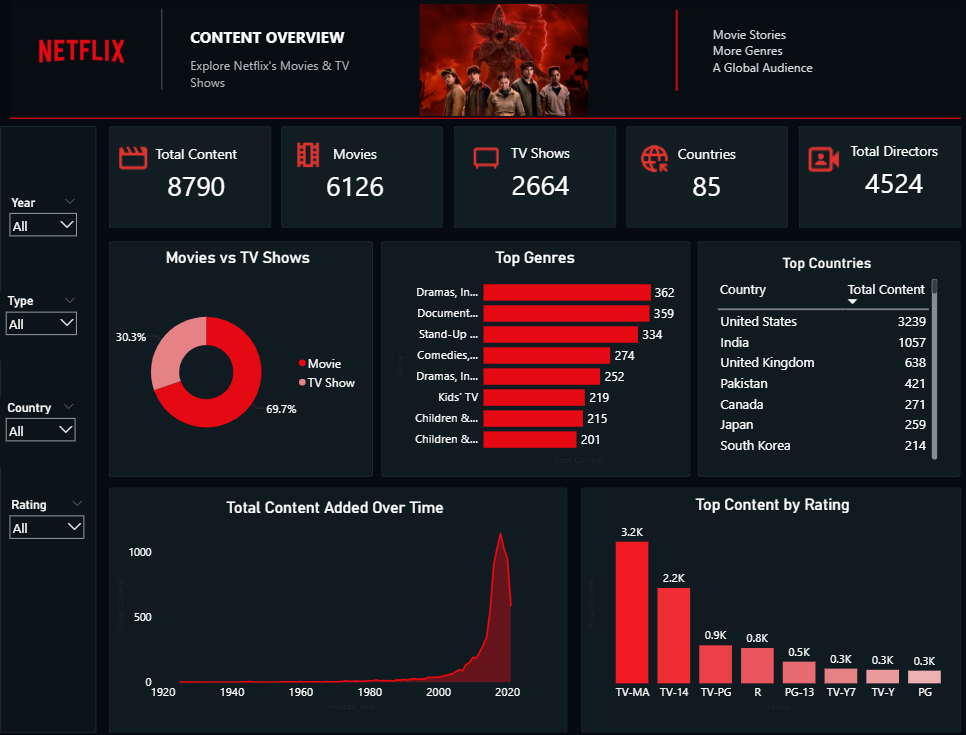

The dashboard page shown, as its layout file describes it:
{"tool":"powerbi","page":{"name":"Task 3","canvas":[2950,1450],"ordinal":1},"visuals":[{"type":"shape","box":[18.1,10.1,1656.8,205.1],"z":0},{"type":"shape","box":[0,227.7,167.6,1220.7],"z":1000},{"type":"shape","box":[189.8,234,452.2,170.8],"z":2000},{"type":"shape","box":[189.8,430.1,2163.2,594.6],"z":3000},{"type":"shape","box":[189.8,1046.8,2710.3,376.3],"z":4000},{"type":"shape","box":[2381.4,430.1,518.7,594.6],"z":5000},{"type":"shape","box":[746.4,234,483.9,170.8],"z":6000},{"type":"shape","box":[1334.6,237.2,490.2,167.6],"z":7000},{"type":"shape","box":[1929.1,234,445.9,170.8],"z":8000},{"type":"shape","box":[2479.4,237.2,408,167.6],"z":9000},{"type":"shape","box":[19,164.5,2868.4,101.2],"z":10000},{"type":"image","box":[0,0,328.9,215.1],"z":11000},{"type":"textbox","box":[357.7,31.7,1158.7,164.6],"z":12000},{"type":"textbox","box":[1693.8,25.3,516,167.8],"z":13000},{"type":"shape","box":[207.5,25.9,242.9,141.5],"z":14000},{"type":"shape","box":[1478.5,25.3,240.6,142.5],"z":15000},{"type":"cardVisual","fields":{"Data":["Keymetrics.Total Content"]},"box":[303.6,230.9,259.3,158.1],"z":16000},{"type":"cardVisual","fields":{"Data":["Keymetrics.Movies"]},"box":[828.6,227.7,313.1,164.5],"z":17000},{"type":"cardVisual","fields":{"Data":["Keymetrics.TV Shows"]},"box":[1413.7,230.9,262.5,158.1],"z":18000},{"type":"cardVisual","fields":{"Data":["Keymetrics.Countries"]},"box":[1992.4,230.9,262.5,158.1],"z":19000},{"type":"cardVisual","fields":{"Data":["Keymetrics.Total Directors"]},"box":[2574.3,234,265.7,155],"z":20000},{"type":"tableEx","title":"Top  Countries","fields":{"Values":["Dataset.country","Keymetrics.Total Content"]},"box":[2381.4,449.1,506,575.6],"z":21000},{"type":"slicer","fields":{"Values":["Dataset.release_year"]},"box":[6.5,344.2,137.2,122],"z":22000},{"type":"slicer","fields":{"Values":["Dataset.Content Type"]},"box":[0,619.9,142.3,123.3],"z":23000},{"type":"slicer","fields":{"Values":["Dataset.rating"]},"box":[0,888.7,148.6,123.3],"z":24000},{"type":"image","box":[1378.9,253,79.1,94.9],"z":25000},{"type":"image","box":[759,262.5,148.6,85.4],"z":26000},{"type":"image","box":[227.7,262.5,79.1,82.2],"z":27000},{"type":"image","box":[1951.3,275.1,88.6,75.9],"z":28000},{"type":"image","box":[2501.6,268.8,98,79.1],"z":29000},{"type":"filledMap","title":"Content by Country (Global view)","fields":{"Category":["Dataset.Country"]},"box":[227.7,430.1,1688.8,581.9],"z":30000},{"type":"shape","box":[1992.4,676.8,41.1,19],"z":31000},{"type":"shape","box":[1992.4,619.9,41.1,19],"z":32000},{"type":"shape","box":[1992.4,600.9,41.1,19],"z":33000},{"type":"shape","box":[1992.4,581.9,41.1,19],"z":34000},{"type":"shape","box":[1992.4,562.9,41.1,22.1],"z":35000},{"type":"shape","box":[1992.4,553.4,41.1,19],"z":36000},{"type":"shape","box":[1992.4,534.5,41.1,19],"z":37000},{"type":"shape","box":[1992.4,638.8,41.1,19],"z":38000},{"type":"shape","box":[1992.4,657.8,41.1,19],"z":39000},{"type":"shape","box":[1992.4,695.8,41.1,22.1],"z":40000},{"type":"shape","box":[1992.4,717.9,41.1,19],"z":41000},{"type":"shape","box":[1992.4,736.9,41.1,19],"z":42000},{"type":"shape","box":[1992.4,755.8,41.1,19],"z":43000},{"type":"shape","box":[1992.4,774.8,41.1,19],"z":44000},{"type":"shape","box":[1992.4,910.8,41.1,19],"z":45000},{"type":"textbox","box":[1922.8,449.1,183.4,113.9],"z":46000},{"type":"textbox","box":[2099.9,525,186.6,113.9],"z":47000},{"type":"textbox","box":[2099.9,765.3,202.4,72.7],"z":48000},{"type":"textbox","box":[2065.1,888.7,208.7,104.4],"z":49000},{"type":"textbox","box":[319.4,1053.1,278.3,117],"z":50000},{"type":"textbox","box":[392.2,1135.3,468.1,287.8],"z":51000},{"type":"textbox","box":[1034.1,1135.3,509.2,287.8],"z":52000},{"type":"textbox","box":[1676.1,1110,480.7,338.4],"z":53000},{"type":"textbox","box":[2318.1,1113.2,575.6,306.8],"z":54000},{"type":"shape","box":[828.6,1094.2,243.5,262.5],"z":55000},{"type":"shape","box":[2084.1,1091.1,243.5,265.7],"z":56000},{"type":"shape","box":[1473.7,1094.2,243.5,262.5],"z":57000},{"type":"image","box":[234,1046.8,98,104.4],"z":58000},{"type":"image","box":[322.6,1113.2,69.6,104.4],"z":59000},{"type":"image","box":[951.9,1129,82.2,82.2],"z":60000},{"type":"image","box":[2229.6,1113.2,88.6,88.6],"z":61000},{"type":"image","box":[1600.2,1113.2,88.6,88.6],"z":62000}]}

Visuals, with their boxes on the page's 2950x1450 design canvas (x1, y1, x2, y2). These are canvas units, not pixel positions in the 966x735 screenshot, which may show the page scaled, cropped or inside an application window:
shape: 18 10 1675 215
shape: 0 228 168 1448
shape: 190 234 642 405
shape: 190 430 2353 1025
shape: 190 1047 2900 1423
shape: 2381 430 2900 1025
shape: 746 234 1230 405
shape: 1335 237 1825 405
shape: 1929 234 2375 405
shape: 2479 237 2887 405
shape: 19 164 2887 266
image: 0 0 329 215
textbox: 358 32 1516 196
textbox: 1694 25 2210 193
shape: 208 26 450 167
shape: 1478 25 1719 168
cardVisual - Keymetrics.Total Content: 304 231 563 389
cardVisual - Keymetrics.Movies: 829 228 1142 392
cardVisual - Keymetrics.TV Shows: 1414 231 1676 389
cardVisual - Keymetrics.Countries: 1992 231 2255 389
cardVisual - Keymetrics.Total Directors: 2574 234 2840 389
"Top  Countries" tableEx: 2381 449 2887 1025
slicer - Dataset.release_year: 6 344 144 466
slicer - Dataset.Content Type: 0 620 142 743
slicer - Dataset.rating: 0 889 149 1012
image: 1379 253 1458 348
image: 759 262 908 348
image: 228 262 307 345
image: 1951 275 2040 351
image: 2502 269 2600 348
"Content by Country (Global view)" filledMap: 228 430 1916 1012
shape: 1992 677 2034 696
shape: 1992 620 2034 639
shape: 1992 601 2034 620
shape: 1992 582 2034 601
shape: 1992 563 2034 585
shape: 1992 553 2034 572
shape: 1992 534 2034 554
shape: 1992 639 2034 658
shape: 1992 658 2034 677
shape: 1992 696 2034 718
shape: 1992 718 2034 737
shape: 1992 737 2034 756
shape: 1992 756 2034 775
shape: 1992 775 2034 794
shape: 1992 911 2034 930
textbox: 1923 449 2106 563
textbox: 2100 525 2286 639
textbox: 2100 765 2302 838
textbox: 2065 889 2274 993
textbox: 319 1053 598 1170
textbox: 392 1135 860 1423
textbox: 1034 1135 1543 1423
textbox: 1676 1110 2157 1448
textbox: 2318 1113 2894 1420
shape: 829 1094 1072 1357
shape: 2084 1091 2328 1357
shape: 1474 1094 1717 1357
image: 234 1047 332 1151
image: 323 1113 392 1218
image: 952 1129 1034 1211
image: 2230 1113 2318 1202
image: 1600 1113 1689 1202
